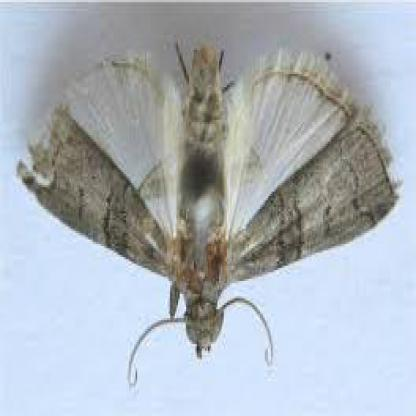Leaf Webber: (18, 31, 401, 394)
